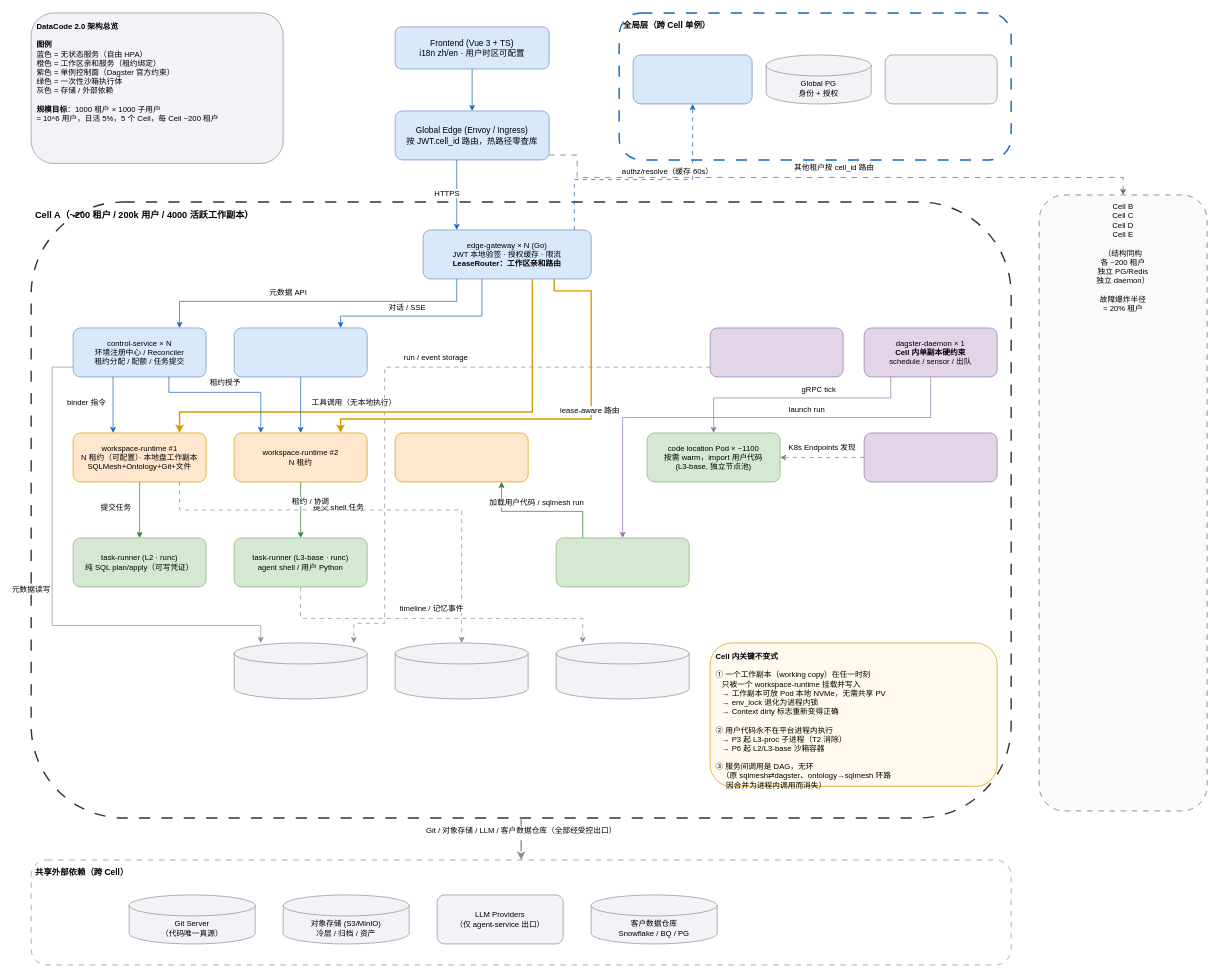
Image size: 1219x977. Some labels were removed from this diagram. Each missing label, with the centre of its shape:
agent-service × N 对话编排 / ACP / SSE 按并发对话数扩容: the point at 300,352
Cell PG platform / agent / dagster: the point at 300,670
Cell Redis 租约表 / SSE bus / 限流: the point at 461,670
dagster run worker (L3-base) 每 run 一个 Pod: the point at 622,562
dagster-webserver × N GraphQL / UI（无状态）: the point at 776,352
Event Store timeline 按天分区 + Parquet 冷层: the point at 622,670
identity-service (Go) users / tenants / roles permissions / authz API: the point at 692,79
tenant_placement 租户 → Cell 映射表: the point at 940,79
workspace-runtime #33 N 租约: the point at 461,457
workspace-sync (sidecar) 单一写者渲染 workspace.yaml: the point at 930,457
